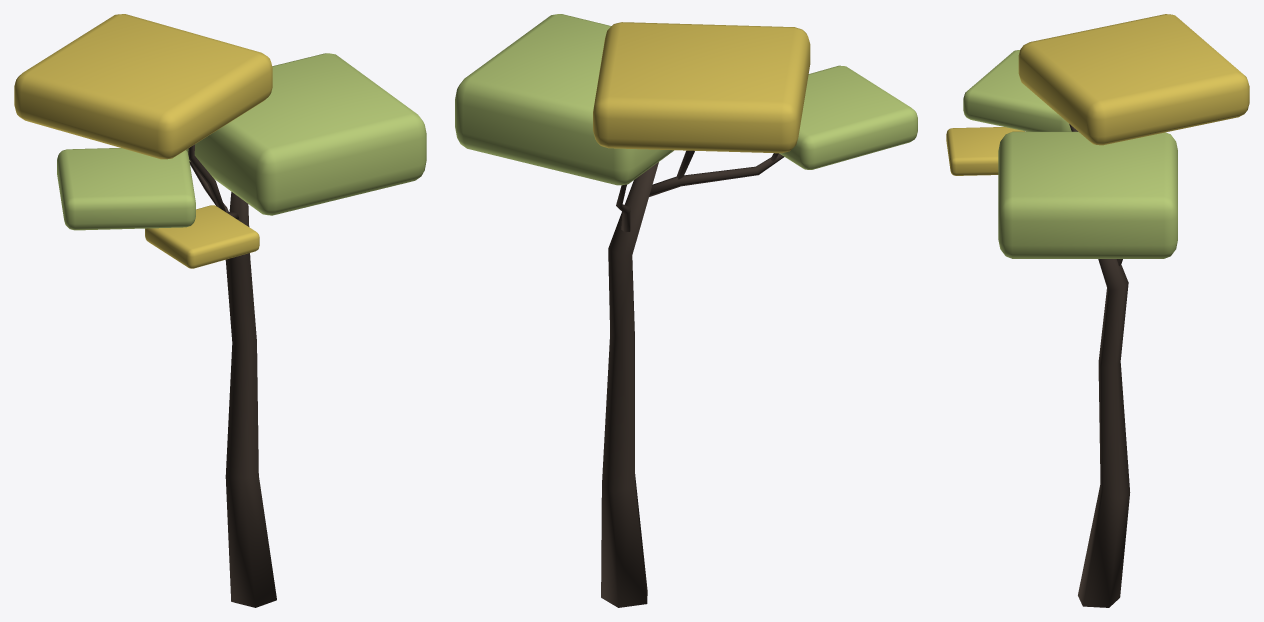
File: TreeTall_03.glb
3 renders of one model, left to right at view 1: azimuth 30°, elevation 25°; view 2: azimuth 150°, elevation 25°; view 3: azimuth 270°, elevation 25°, orthographic. The views are drawn at different scales.
Parts seen in each view (by area): view 1: TreeTall_03; view 2: TreeTall_03; view 3: TreeTall_03.
Part boxes in pixels (box(x1,y1,x2,y2)): TreeTall_03: box(14, 14, 426, 607); TreeTall_03: box(455, 14, 917, 607); TreeTall_03: box(946, 14, 1249, 607).
Size of what is drawn, in the model's own units: 4.22 by 6.15 by 3.37.
Materials: 1 (1 with a texture image).
